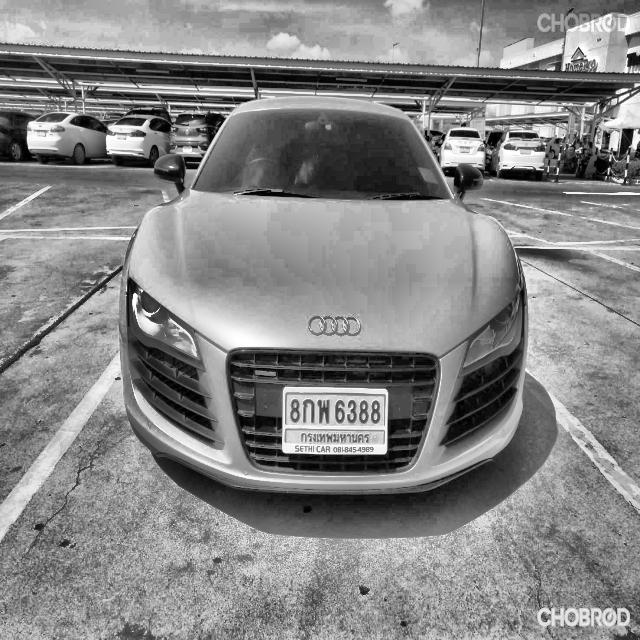license-plate: (281, 382, 391, 458), (519, 145, 532, 157), (182, 142, 194, 154), (460, 144, 470, 154), (116, 132, 126, 141), (36, 130, 46, 137)
